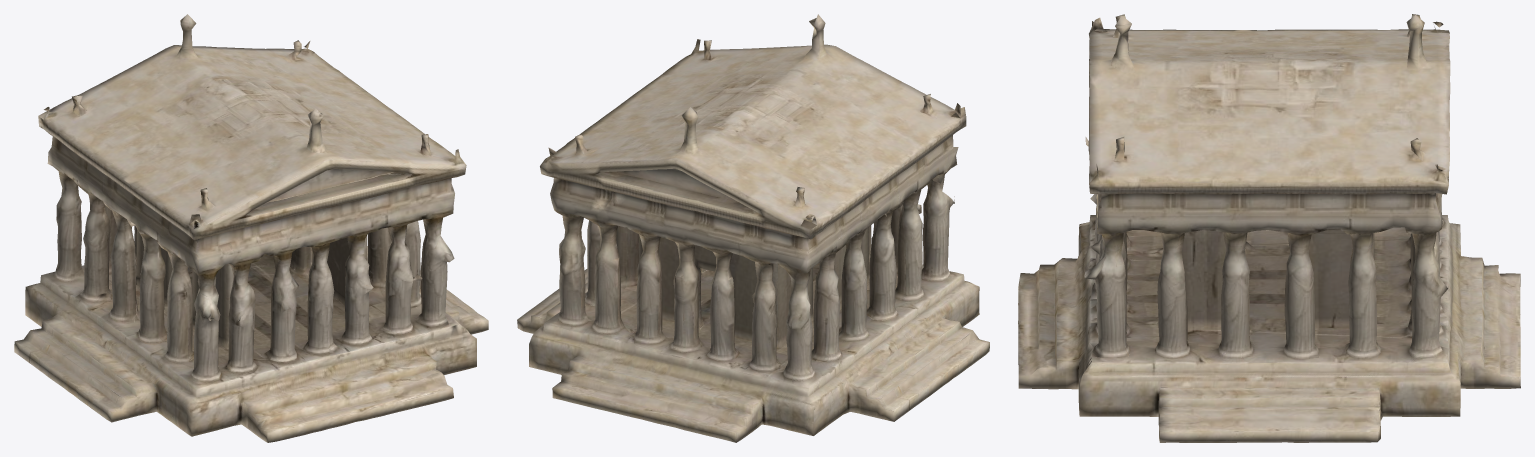
Rendered from temple__erechtheion.glb.
The picture shows the model from 3 angles, left to right: view 1: azimuth 30°, elevation 25°; view 2: azimuth 150°, elevation 25°; view 3: azimuth 270°, elevation 25°; orthographic projection. The views are drawn at different scales.
Bounding box in the file's own units: 2 × 1.42 × 2.
Materials: 1 (1 with a texture image).
